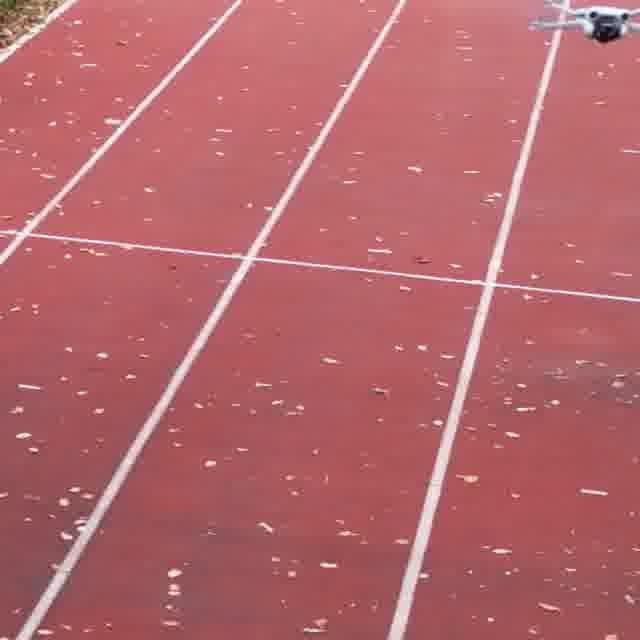Drohne: (531, 5, 639, 43)
